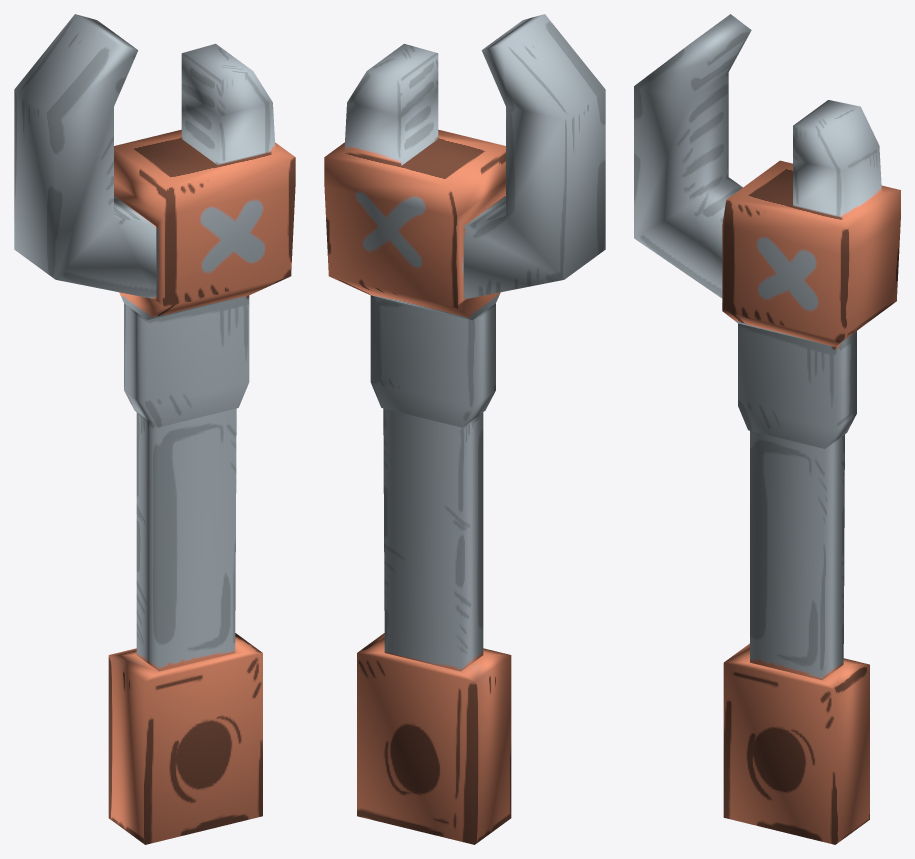
The model's file is Wrench.fbx.
3 views of the same model, side by side, from view 1: azimuth 30°, elevation 25°; view 2: azimuth 150°, elevation 25°; view 3: azimuth 330°, elevation 25° (orthographic). The views are drawn at different scales.
Parts seen in each view (by area): view 1: pCube1; view 2: pCube1; view 3: pCube1.
Part boxes in pixels (left/top/right/bottom): pCube1: left=14, top=14, right=295, bottom=844; pCube1: left=324, top=14, right=605, bottom=844; pCube1: left=634, top=14, right=900, bottom=844.
Bounding box in the file's own units: 1.02 × 3.39 × 0.4302.
